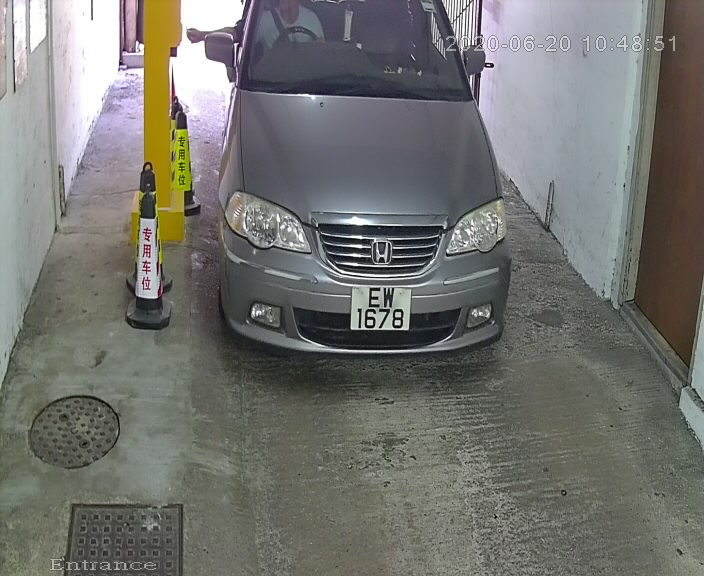privatecar: (194, 3, 512, 387)
